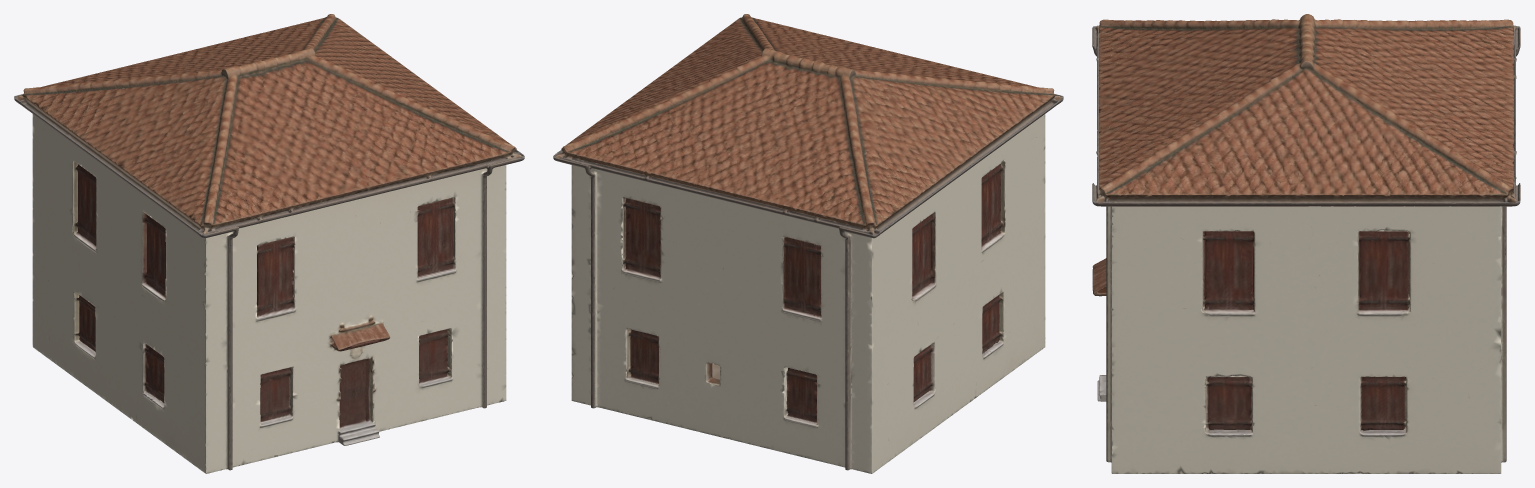
The model's file is Meshy_AI_Terracotta_Shutter_Ho_0826152137_texture.fbx.
3 views of the same model, side by side, from view 1: azimuth 30°, elevation 25°; view 2: azimuth 150°, elevation 25°; view 3: azimuth 270°, elevation 25° (orthographic). The views are drawn at different scales.
Parts seen in each view (by area): view 1: mesh_node; view 2: mesh_node; view 3: mesh_node.
Boxes of the visible parts, left/top/right/bottom form: mesh_node: left=14, top=14, right=524, bottom=473; mesh_node: left=553, top=14, right=1063, bottom=473; mesh_node: left=1092, top=14, right=1520, bottom=473.
Size of the model in its own units: 187 by 174 by 190.
1 material, 1 textured.
